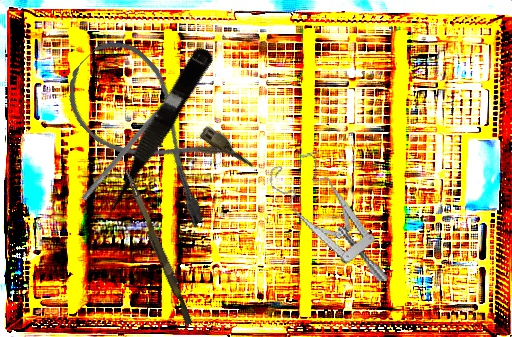Cannula: (49, 27, 257, 232)
Micro Scissor: (93, 42, 216, 225)
Pusher: (118, 168, 197, 326)
Spatula Surgical: (81, 86, 183, 206)
Speculum: (265, 141, 389, 304)
